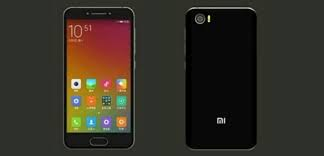mi: (58, 5, 137, 152), (182, 8, 261, 155)
